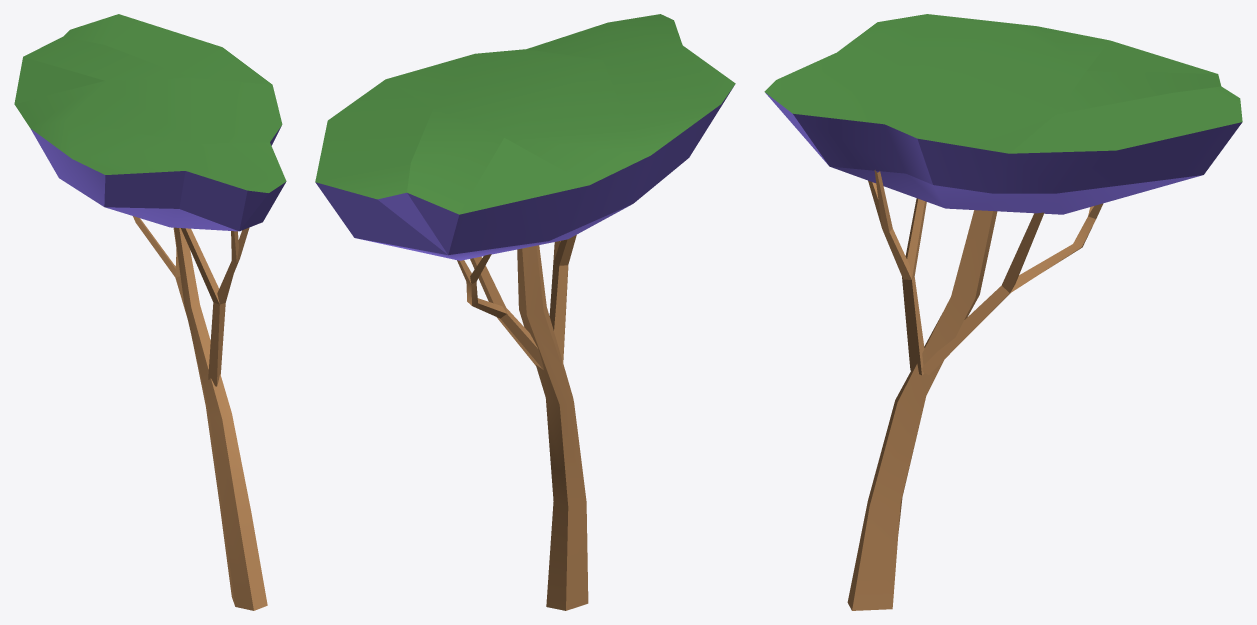
The model's file is tree_B_canopy_B_E_solo_LOD2.fbx.
3 views of the same model, side by side, from view 1: azimuth 30°, elevation 25°; view 2: azimuth 150°, elevation 25°; view 3: azimuth 270°, elevation 25° (orthographic). The views are drawn at different scales.
Visible parts, largest first — view 1: tree_B_canopy_B_E, tree_B_canopy_B_trunk_A, tree_B_canopy_B_trunk_C, tree_B_canopy_B_trunk_I; view 2: tree_B_canopy_B_E, tree_B_canopy_B_trunk_A, tree_B_canopy_B_trunk_I, tree_B_canopy_B_trunk_C; view 3: tree_B_canopy_B_E, tree_B_canopy_B_trunk_A, tree_B_canopy_B_trunk_C, tree_B_canopy_B_trunk_I.
Boxes of the visible parts, x1=… form: tree_B_canopy_B_E: x1=14, y1=14, x2=286, y2=231; tree_B_canopy_B_trunk_A: x1=173, y1=227, x2=267, y2=610; tree_B_canopy_B_trunk_C: x1=181, y1=228, x2=249, y2=386; tree_B_canopy_B_trunk_I: x1=133, y1=216, x2=187, y2=317; tree_B_canopy_B_E: x1=315, y1=14, x2=735, y2=260; tree_B_canopy_B_trunk_A: x1=517, y1=245, x2=588, y2=610; tree_B_canopy_B_trunk_I: x1=457, y1=254, x2=543, y2=369; tree_B_canopy_B_trunk_C: x1=549, y1=235, x2=576, y2=367; tree_B_canopy_B_E: x1=764, y1=14, x2=1242, y2=214; tree_B_canopy_B_trunk_A: x1=847, y1=210, x2=997, y2=610; tree_B_canopy_B_trunk_C: x1=868, y1=170, x2=926, y2=375; tree_B_canopy_B_trunk_I: x1=922, y1=203, x2=1103, y2=374.
Size of the model in its own units: 207 by 385 by 327.
